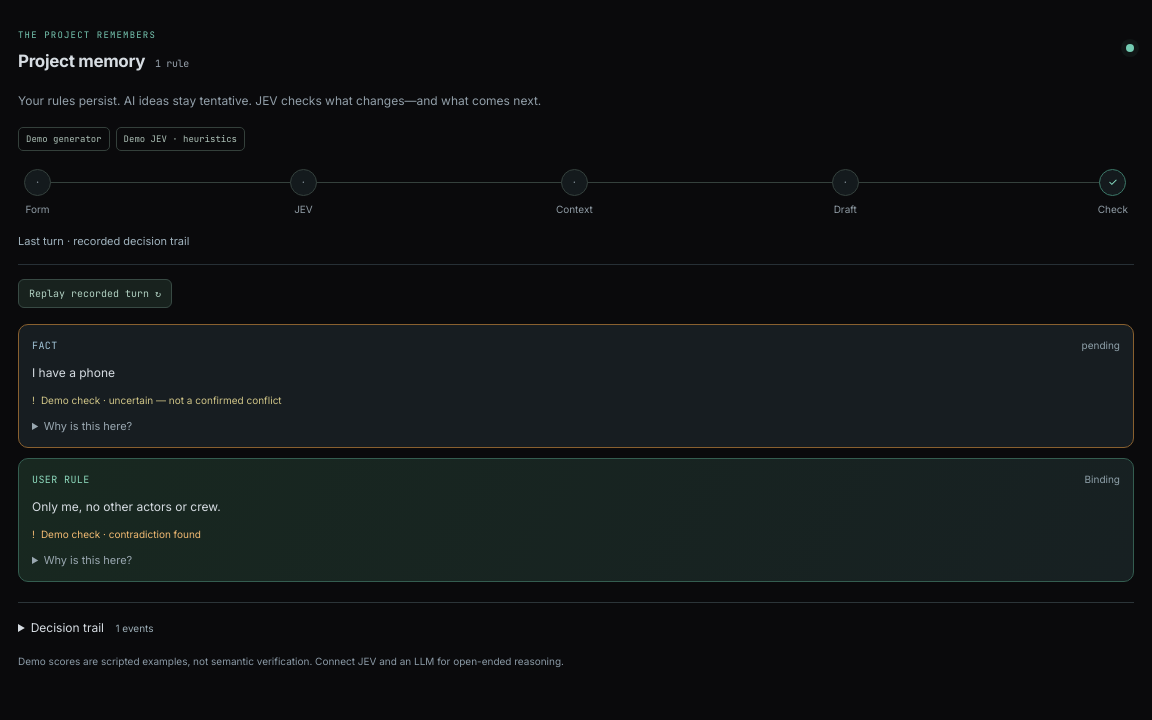
Test: separates contradiction from uncertainty and exposes raw JEV answers
Expected: the text "! Demo check · uncertain — not a confirmed conflict" is shown, [32,394,282,406]
Expected: the text "! Demo check · contradiction found" is shown, [32,528,201,540]
Click the heading "Decision trail 1 events" at (92, 628), box [31,620,154,636]
(page scrolled)
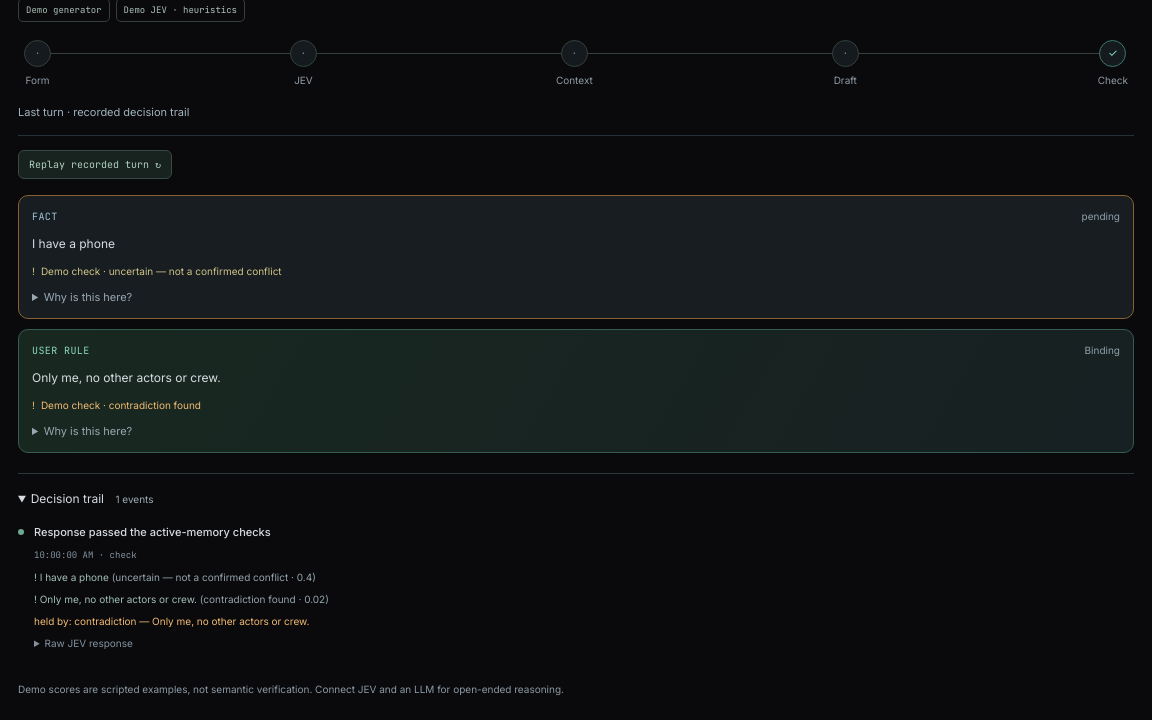
Click the heading "Raw JEV response" at (89, 643), box [45,637,133,649]
(page scrolled)
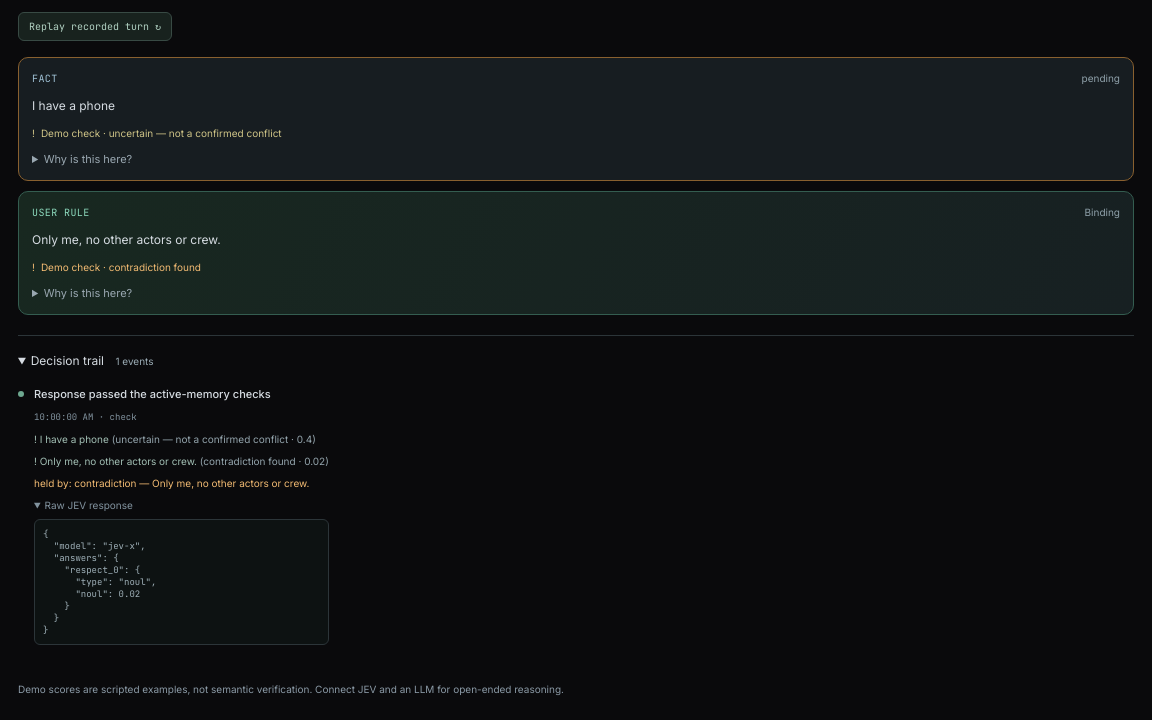
Result: the text "\"noul\": 0.02" is shown at [43,528,156,636]
